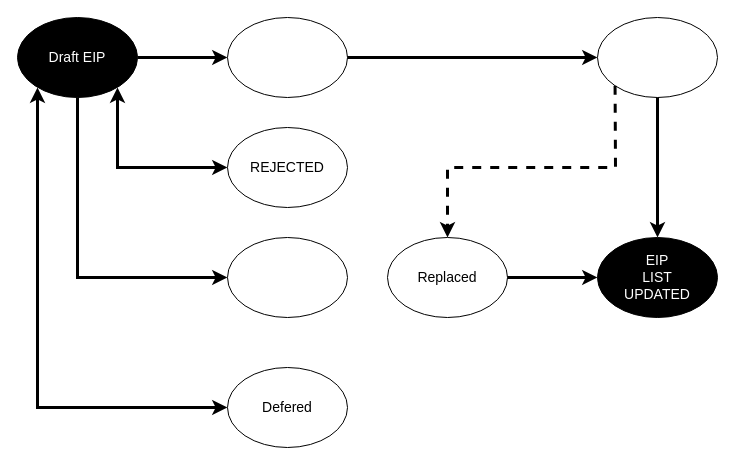
The diagram is 735 pixels wide and 465 high, and some of its shapes have lost their labels. Here are the shapes that lost their labels. From the top down, the centre of each, then its label:
[287,57]: ACCEPTED
[657,57]: FInal
[287,277]: WITHDRAWN
